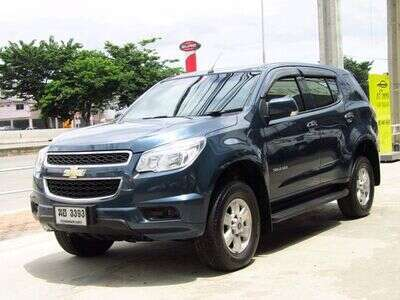pickup: (30, 62, 381, 272)
